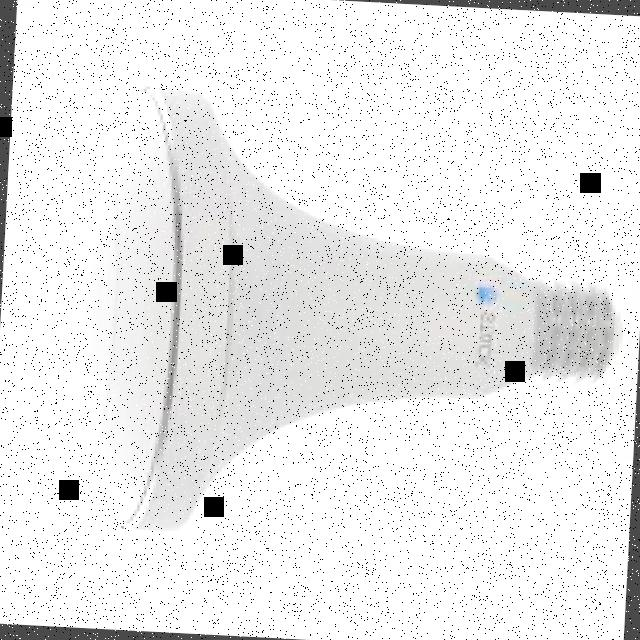light_bulb: (2, 64, 638, 580)
